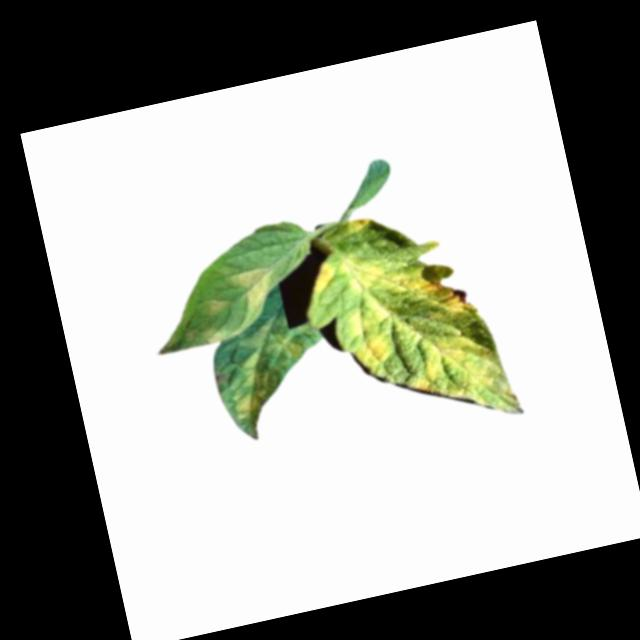Leaf_Mold: (297, 192, 526, 451), (213, 313, 319, 434), (231, 263, 283, 320), (199, 292, 233, 319)
